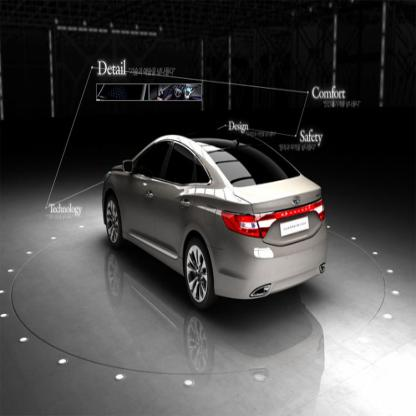Vehicle: (101, 135, 329, 316)
